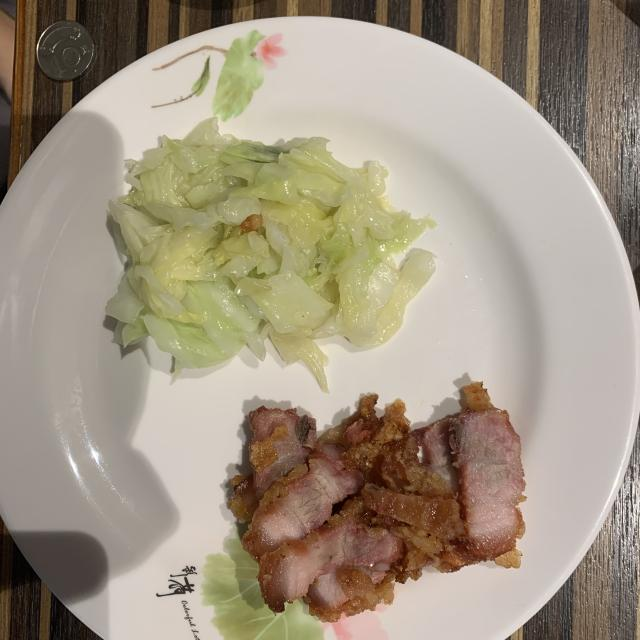cabbage: (106, 118, 435, 390)
coin: (36, 20, 94, 81)
red grilled pork: (229, 382, 525, 621)
